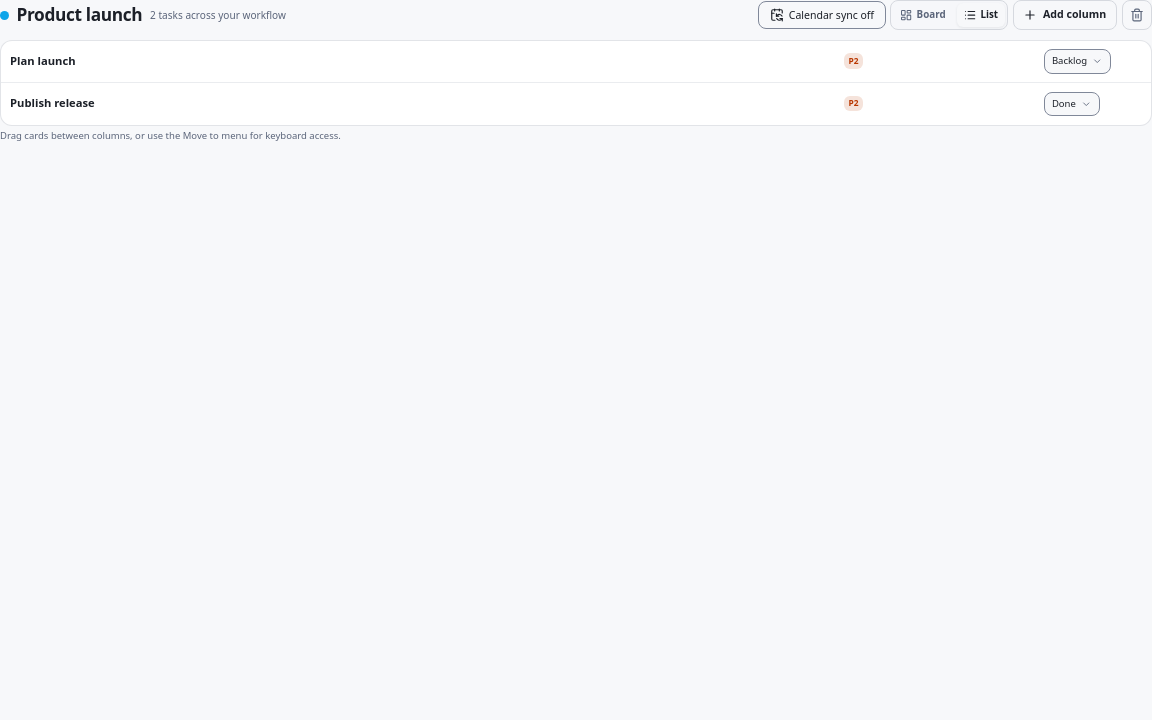
ProjectWorkspace › asks for an in-app confirmation before deleting the project
Click the button named "Delete project" at (1137, 15), box [1122,0,1151,30]
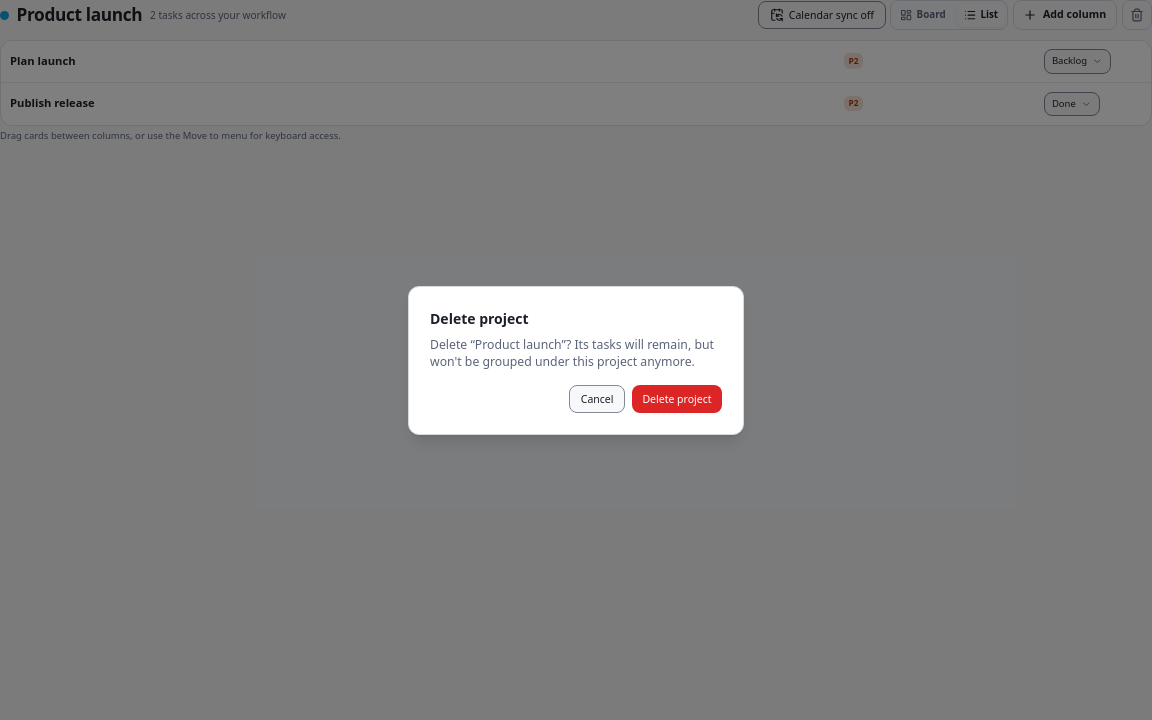
Result: the text "Delete “Product launch”" is shown at [430,336,714,370]
Click the button "Delete project" at (677, 398), box [632,384,722,412]
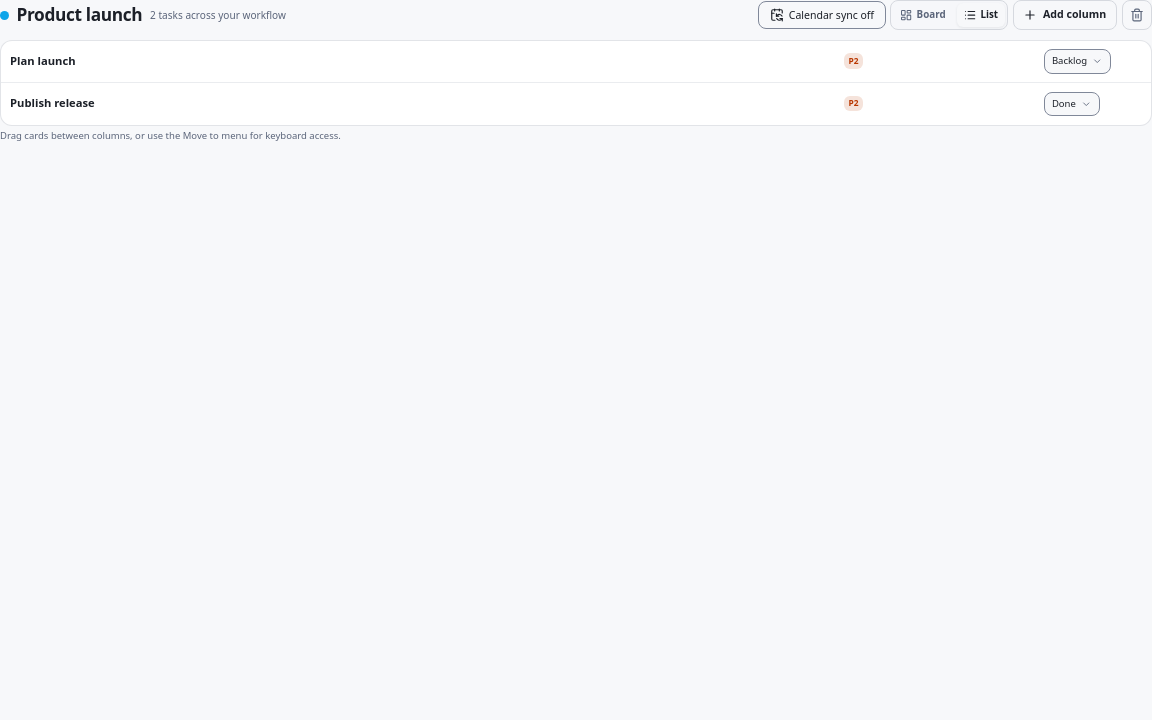
Result: the dialog is gone
